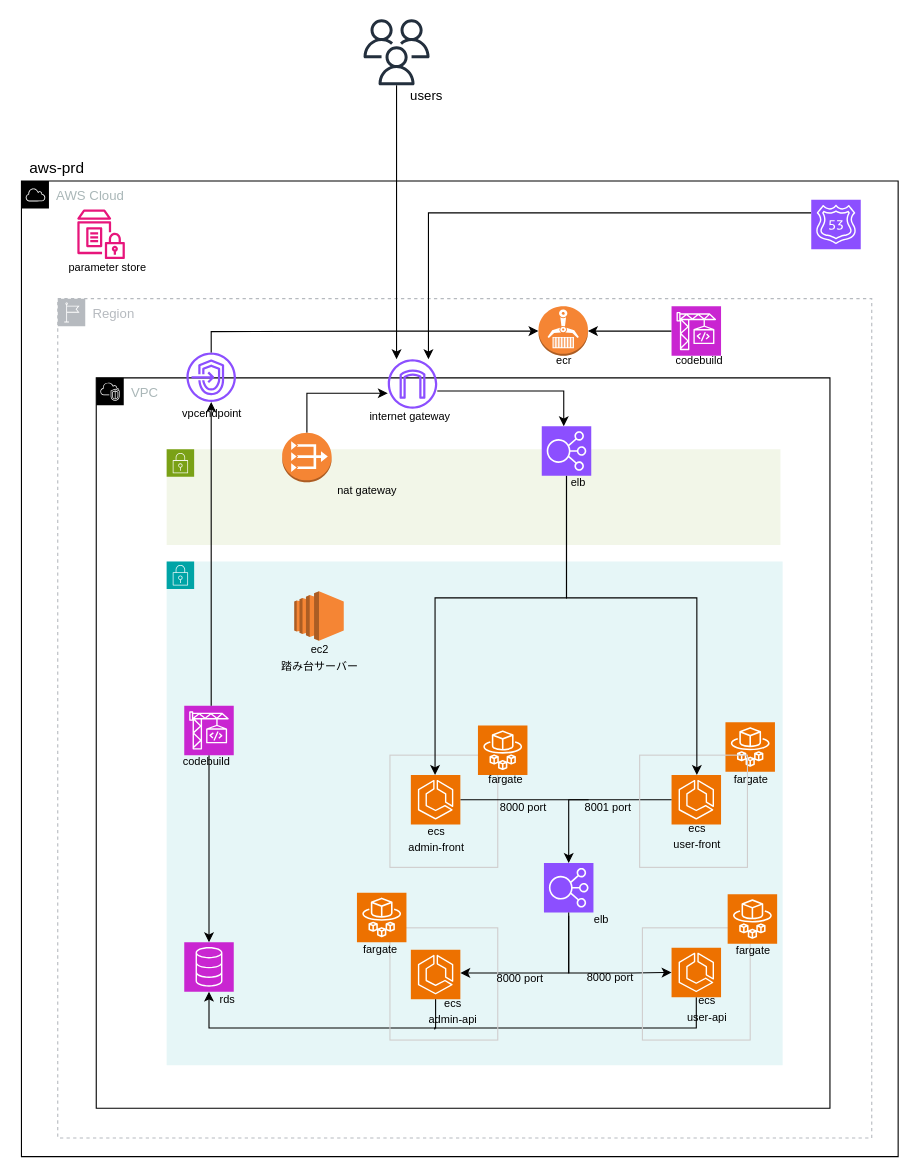
Some shapes in this 917 by 1176 pixel diagram are drawn without their labels. The shapes that lost their labels are listed below. From the top down, each one's box as (x1, y1, x2, y2) in pixels, then its label:
(166, 448, 780, 545): Public subnet
(166, 560, 783, 1065): Private subnet
